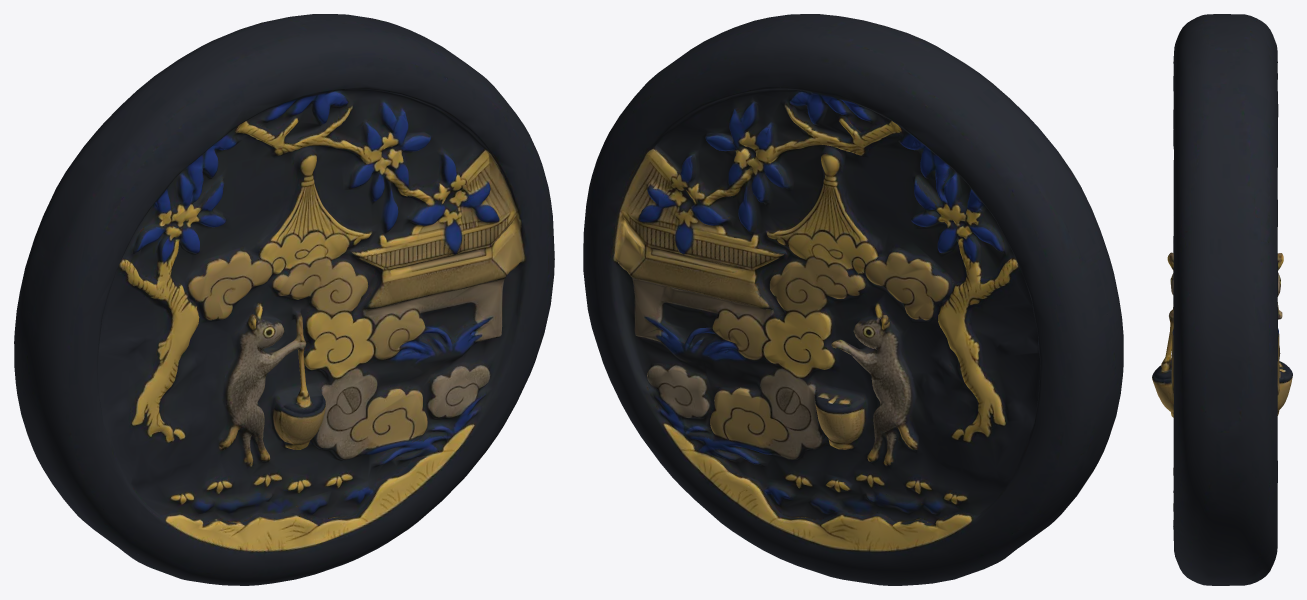
Rendered from 汪斗山款麝香月墨.glb.
3 renders of one model, left to right at view 1: azimuth 30°, elevation 25°; view 2: azimuth 150°, elevation 25°; view 3: azimuth 270°, elevation 25°, orthographic. The views are drawn at different scales.
Parts seen in each view (by area): view 1: tripo_node_ff4459b9; view 2: tripo_node_ff4459b9; view 3: tripo_node_ff4459b9.
Part boxes in pixels (x1,y1,x2,y2): tripo_node_ff4459b9: (14, 14, 554, 585); tripo_node_ff4459b9: (583, 14, 1123, 585); tripo_node_ff4459b9: (1152, 14, 1292, 585).
Size of the model in its own units: 98.09 by 97.9 by 24.16.
1 material, 1 textured.
